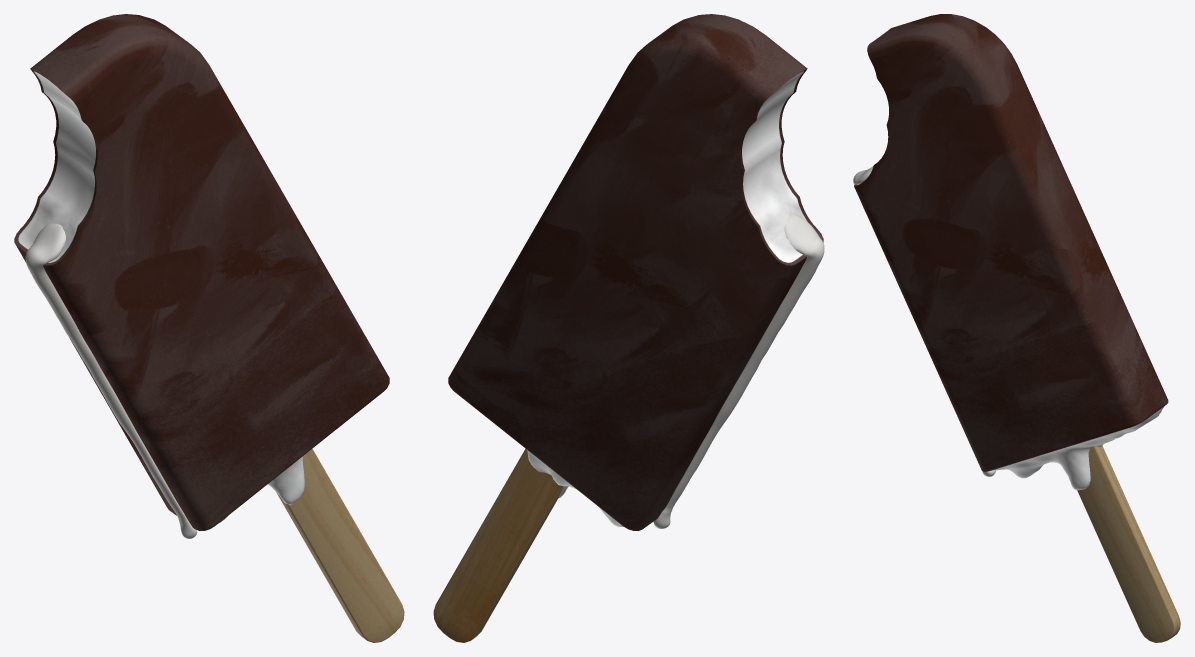
3 renders of one model, left to right at view 1: azimuth 30°, elevation 25°; view 2: azimuth 150°, elevation 25°; view 3: azimuth 330°, elevation 25°, orthographic. The views are drawn at different scales.
Parts seen in each view (by area): view 1: Chocolate_1, Stick_6, IceCreamTop_2, MeltingIceCream_5, IceCreamTop.002_3; view 2: Chocolate_1, Stick_6, IceCreamTop_2, MeltingIceCream_5, IceCreamTop.002_3; view 3: Chocolate_1, Stick_6, IceCreamTop.002_3.
Boxes of the visible parts, x1=… form: Chocolate_1: x1=14, y1=14, x2=389, y2=530; Stick_6: x1=276, y1=448, x2=404, y2=642; IceCreamTop_2: x1=18, y1=71, x2=95, y2=262; MeltingIceCream_5: x1=25, y1=223, x2=197, y2=538; IceCreamTop.002_3: x1=219, y1=456, x2=304, y2=522; Chocolate_1: x1=448, y1=14, x2=823, y2=530; Stick_6: x1=433, y1=448, x2=563, y2=642; IceCreamTop_2: x1=742, y1=71, x2=806, y2=262; MeltingIceCream_5: x1=653, y1=214, x2=824, y2=528; IceCreamTop.002_3: x1=527, y1=450, x2=623, y2=526; Chocolate_1: x1=854, y1=14, x2=1168, y2=471; Stick_6: x1=1077, y1=446, x2=1180, y2=642; IceCreamTop.002_3: x1=990, y1=406, x2=1164, y2=490.
Bounding box in the file's own units: 0.8147 × 1.38 × 0.1539.
2 materials, 1 textured.
